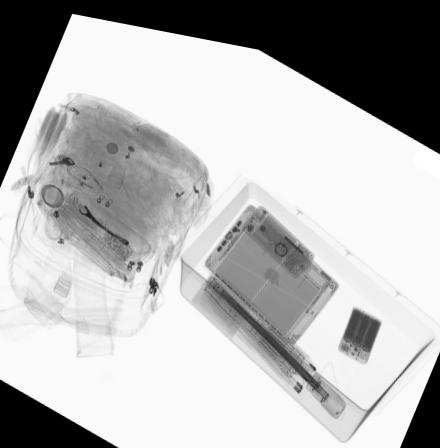Powerbank: (334, 289, 385, 351)
